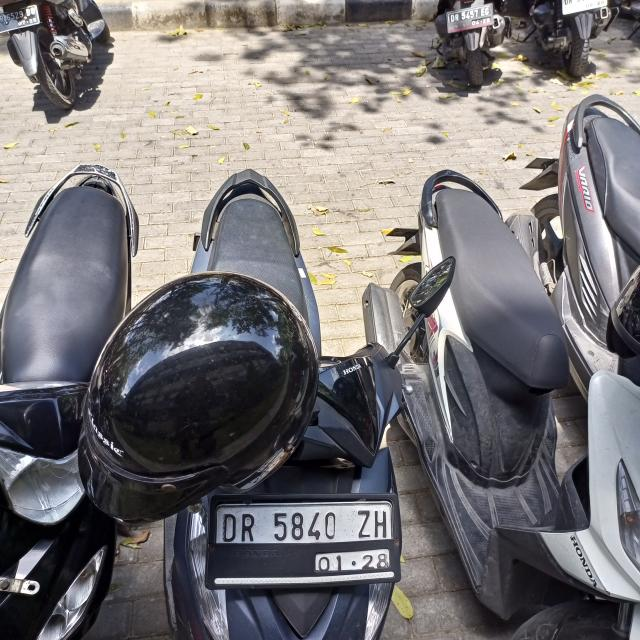plate: (218, 498, 398, 580), (446, 3, 495, 36)
